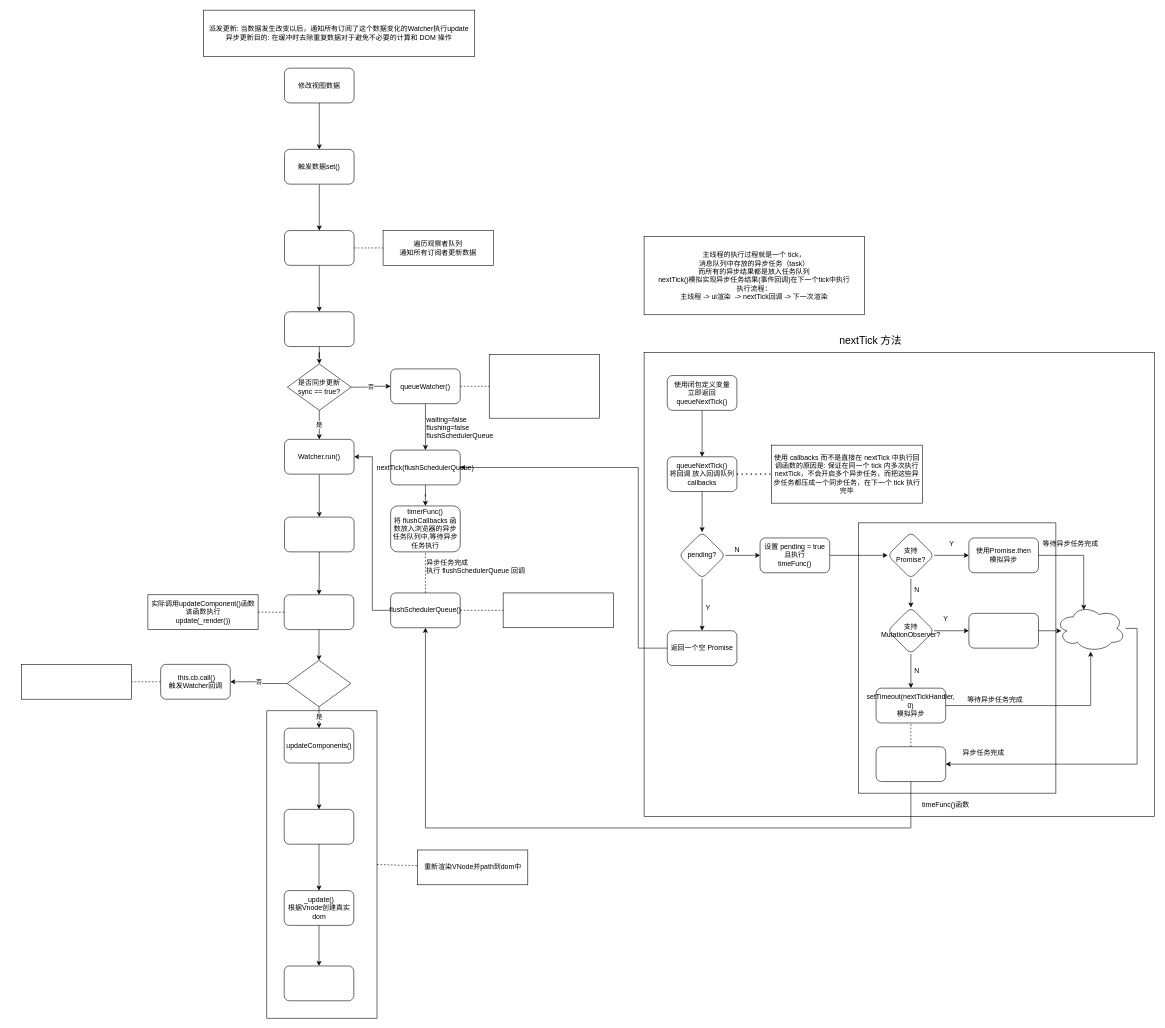
Some shapes in this 1165 by 1028 pixel diagram are drawn without their labels. Here are the shapes that lost their labels. From the top down, the centre of each, then its label:
(x=319, y=247): dep.notify()
(x=319, y=329): 遍历subs 调用Dep对象中 sub.update()
(x=544, y=386): 将Watcher对象 推送到异步观察者队列 一个数据对应一个观察者对象，如果同一个 watcher 被多次触发，只会被推入到队列中一次
(x=319, y=534): watcher.get()
(x=319, y=612): this.getter.call(vm)
(x=558, y=610): 1.队列排序 2.遍历队列,取出所有观察者然后执行 watcher.run()
(x=1003, y=630): 使用MutationObserver 模拟异步
(x=1090, y=628): 执行异步任务
(x=76, y=681): 用户自定义Watcher的回调为用户定义的回调，渲染Watcher回调为空
(x=319, y=683): 是否为渲染Watcher?
(x=911, y=764): nextTickHandler() 遍历callbacks并 执行
(x=319, y=826): _render() 渲染Vnode
(x=319, y=983): 遍历queue 调用update钩子函数
